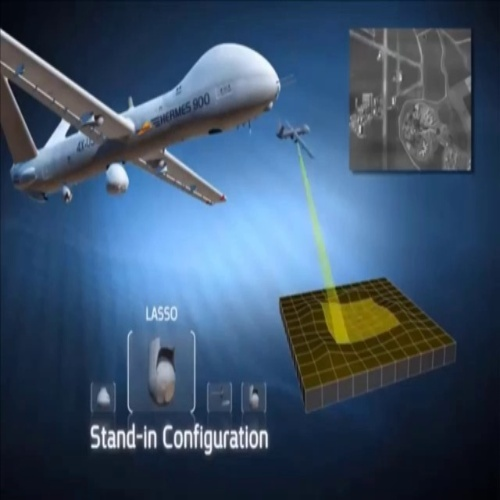uav769: (1, 28, 281, 207), (272, 116, 320, 161)
